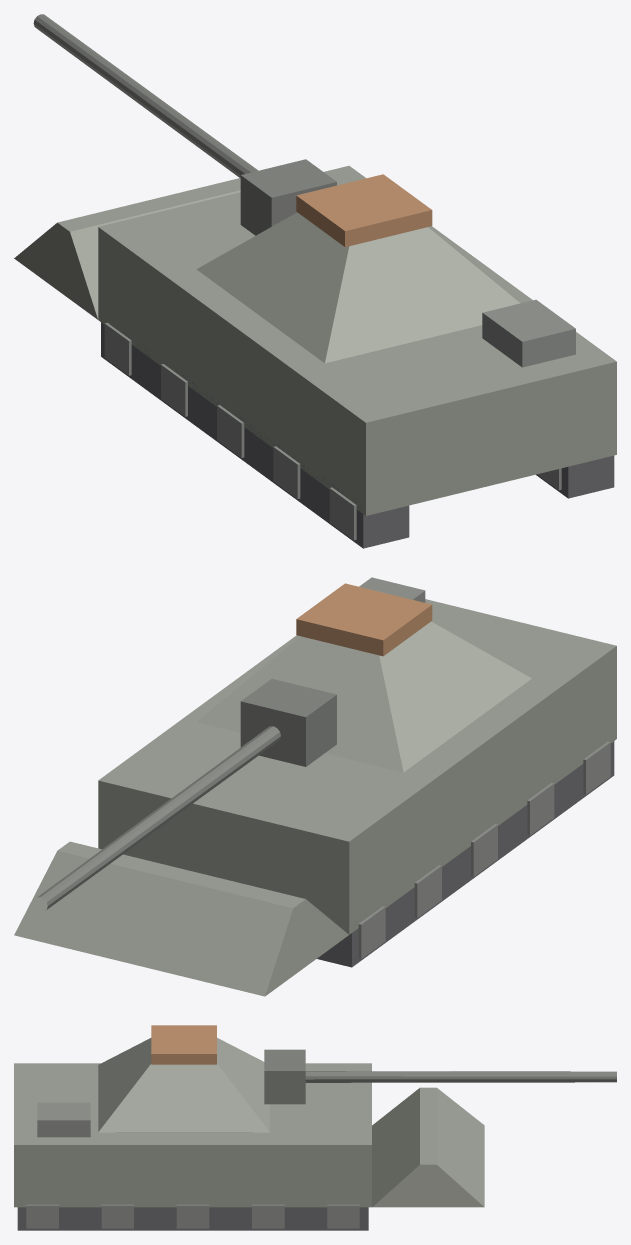
The model's file is mbt_e1_soviet_hero_LOD0.glb.
The picture shows the model from 3 angles, top to bottom: view 1: azimuth 30°, elevation 25°; view 2: azimuth 150°, elevation 25°; view 3: azimuth 270°, elevation 25°; orthographic projection. The views are drawn at different scales.
Visible parts, largest first — view 1: mbt_e1_soviet_hero_LOD0_body; view 2: mbt_e1_soviet_hero_LOD0_body; view 3: mbt_e1_soviet_hero_LOD0_body.
Part boxes in pixels (bbox=[...]): mbt_e1_soviet_hero_LOD0_body: bbox=[14, 14, 616, 548]; mbt_e1_soviet_hero_LOD0_body: bbox=[14, 577, 616, 996]; mbt_e1_soviet_hero_LOD0_body: bbox=[14, 1025, 616, 1230].
Bounding box in the file's own units: 3.34 × 2.79 × 10.17.
